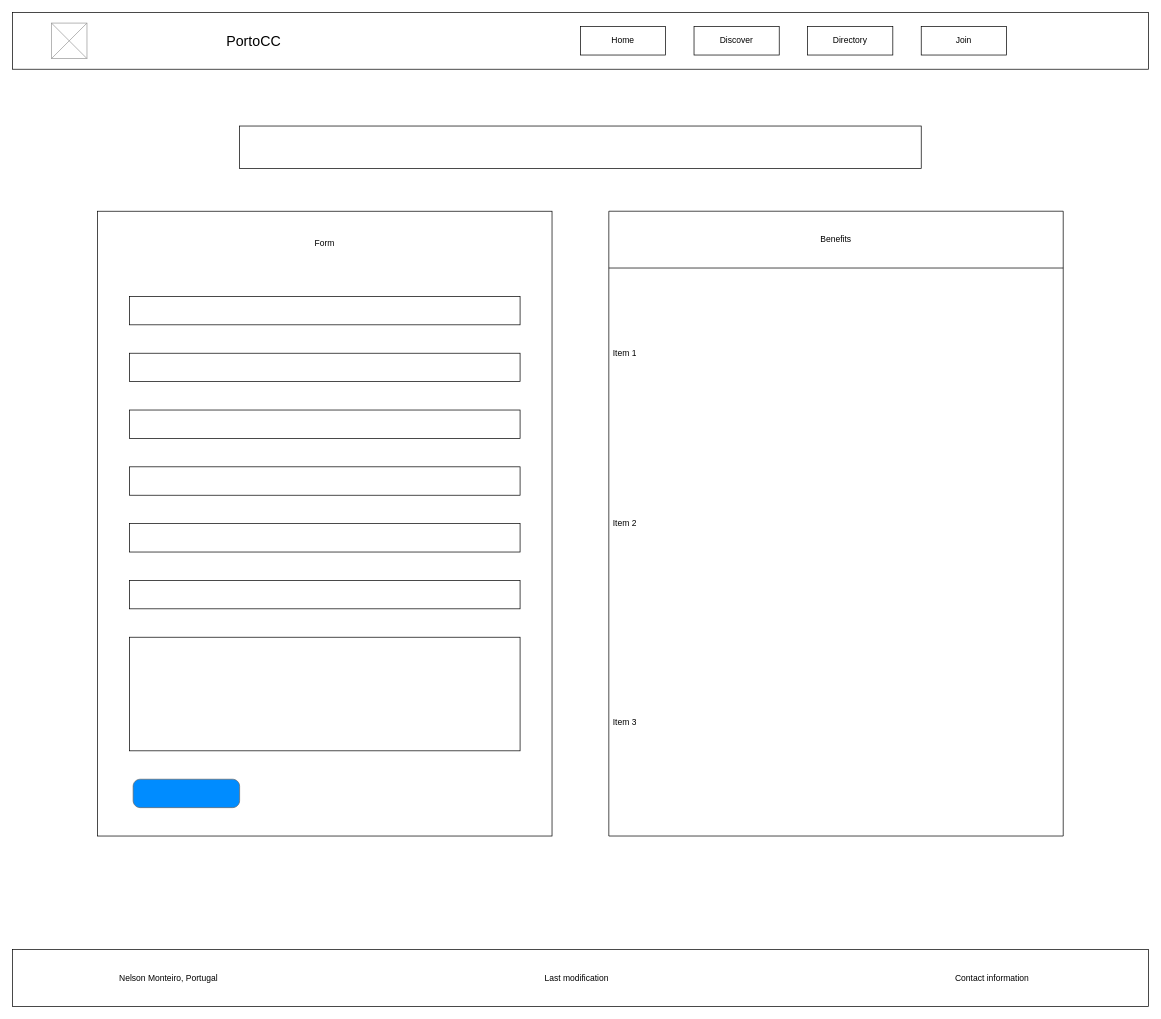
This 1161x1019 diagram has some shape labels left out. Each missing label, with the box of its shape:
Chamber of Commerce - Porto: (239, 125, 921, 169)
Join Chamber: (132, 779, 240, 808)
Logo: (51, 22, 87, 59)
